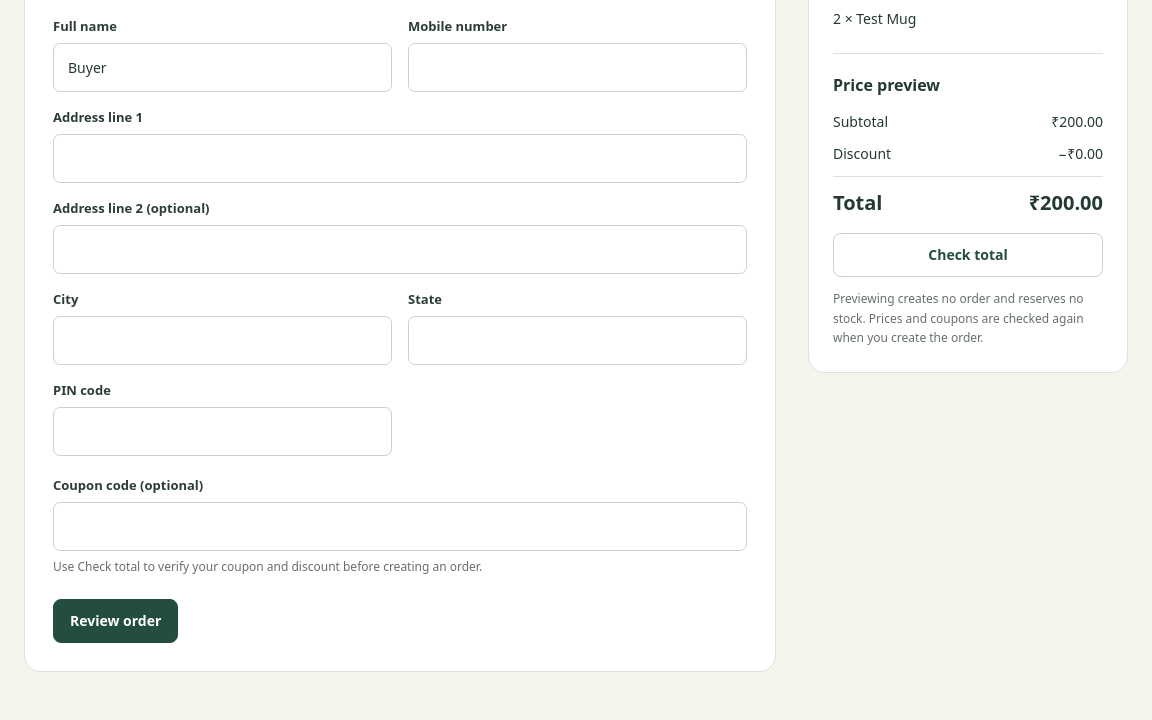
coupon totals can be previewed without an address or payment setup
(page scrolled)
Type "SAVE10" into the field labelled "Coupon code (optional)". click: (400, 526)
box: x1=53 y1=502 x2=747 y2=551
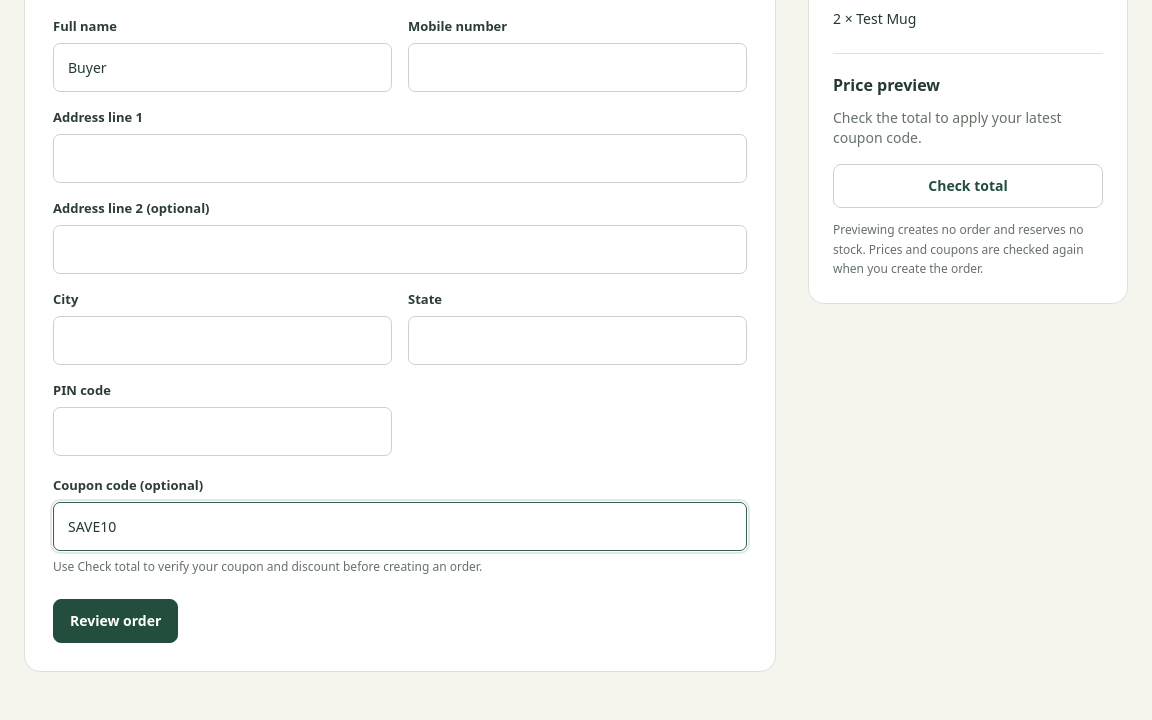
Click the button "Check total". click: (968, 186)
box: x1=833 y1=164 x2=1103 y2=208
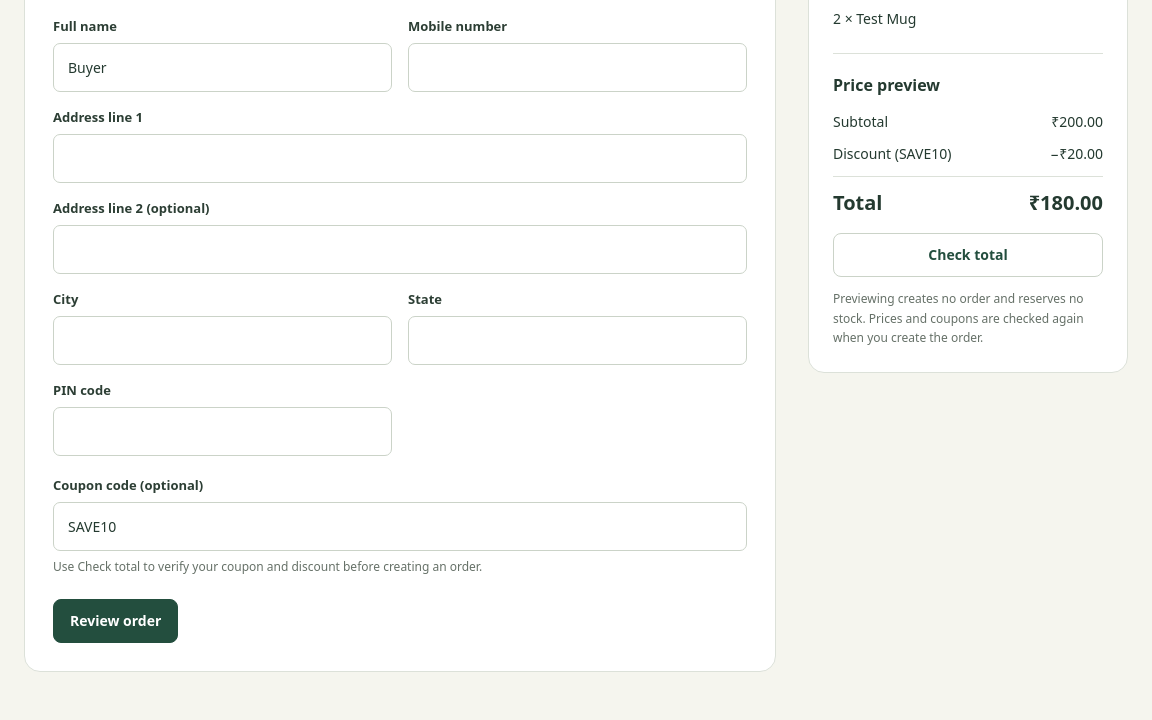
Now the text "₹180.00" is shown, box x1=1029 y1=189 x2=1103 y2=217
Type "OTHER" into the field labelled "Coupon code (optional)". click: (400, 526)
box: x1=53 y1=502 x2=747 y2=551
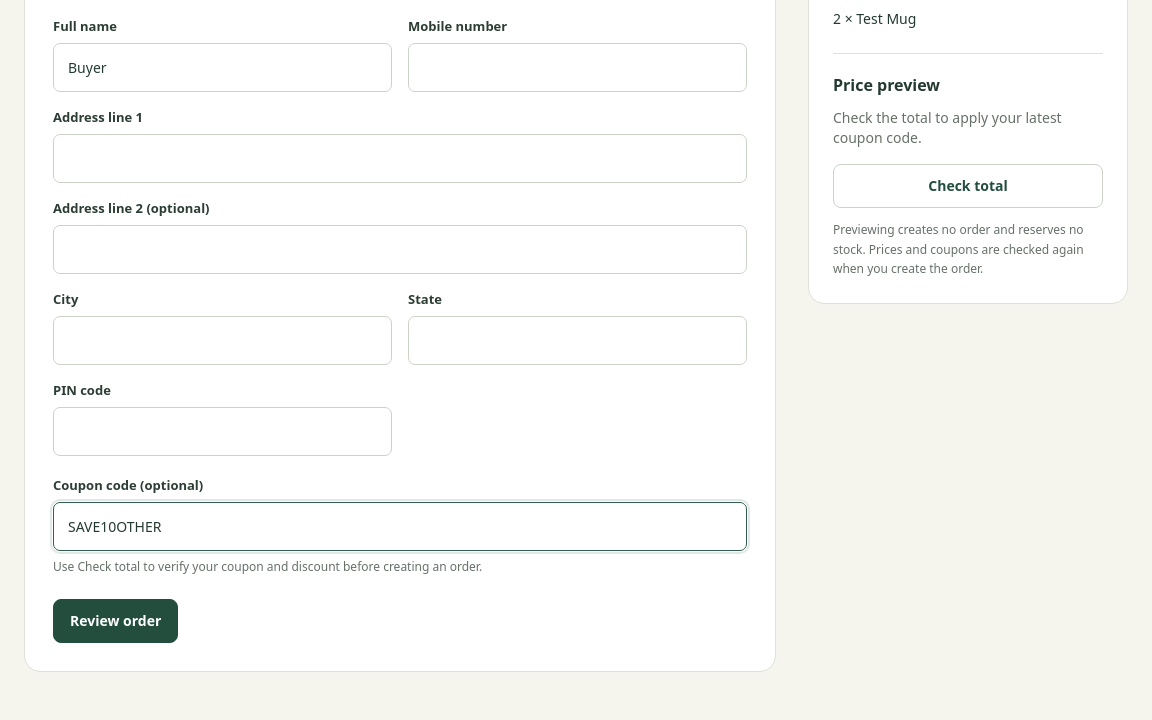
Now the text "₹180.00" is gone
Now the text "Check the total to apply your latest coupon code." is shown, box x1=833 y1=108 x2=1062 y2=147
